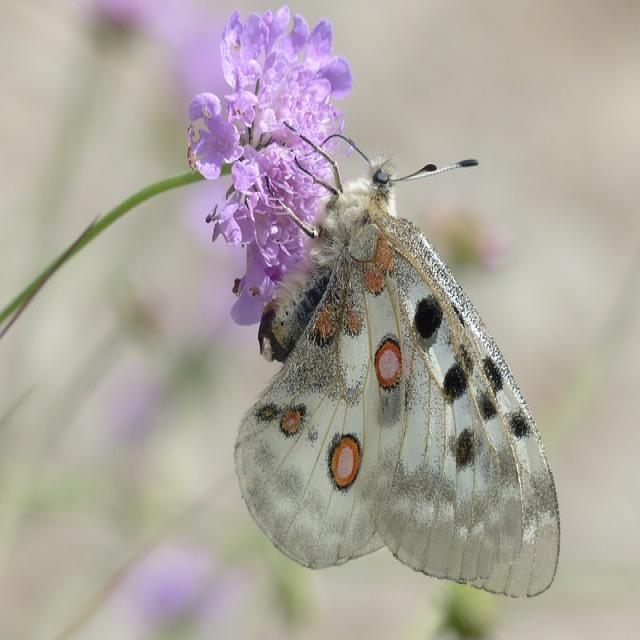butterfly: (235, 128, 560, 596)
